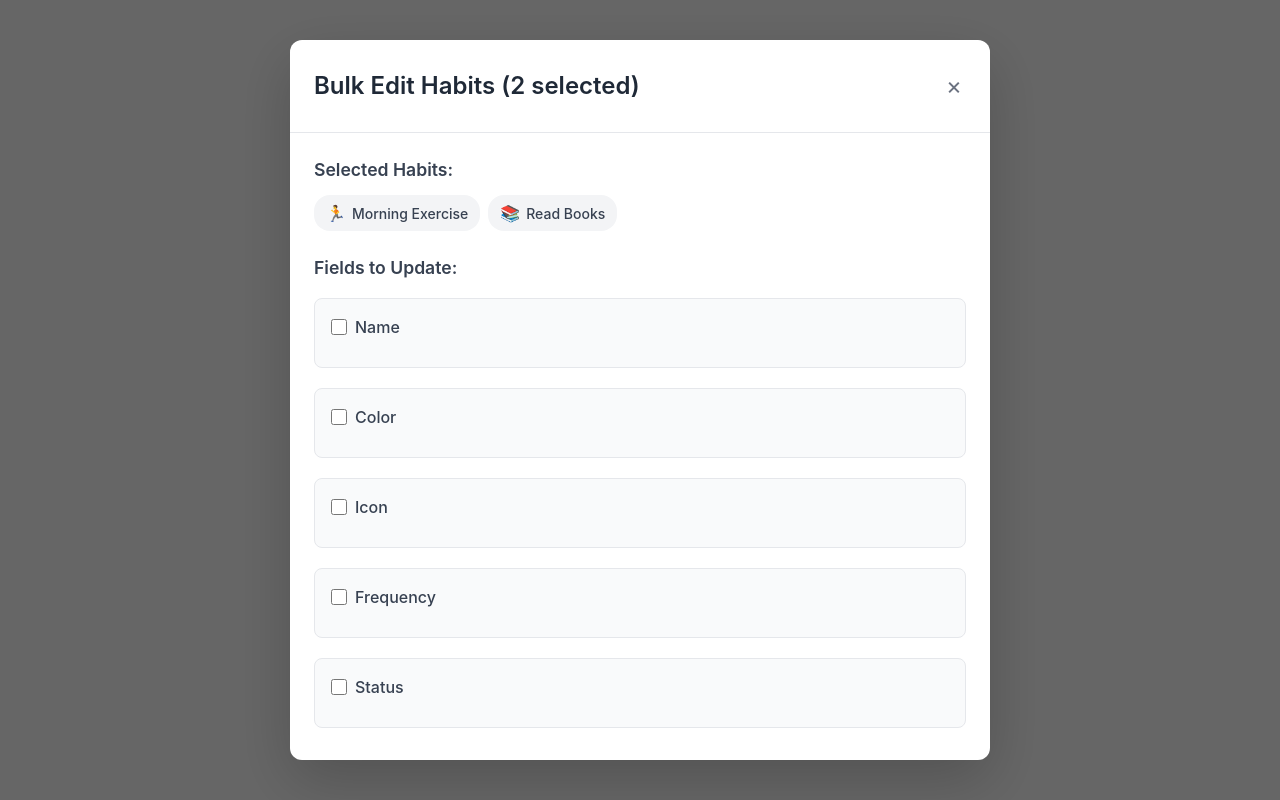
Scenario: BulkEditModal › shows loading state during bulk edit
Select field and submit
Click the checkbox labelled "Name" at (339, 327), box [331,319,347,335]
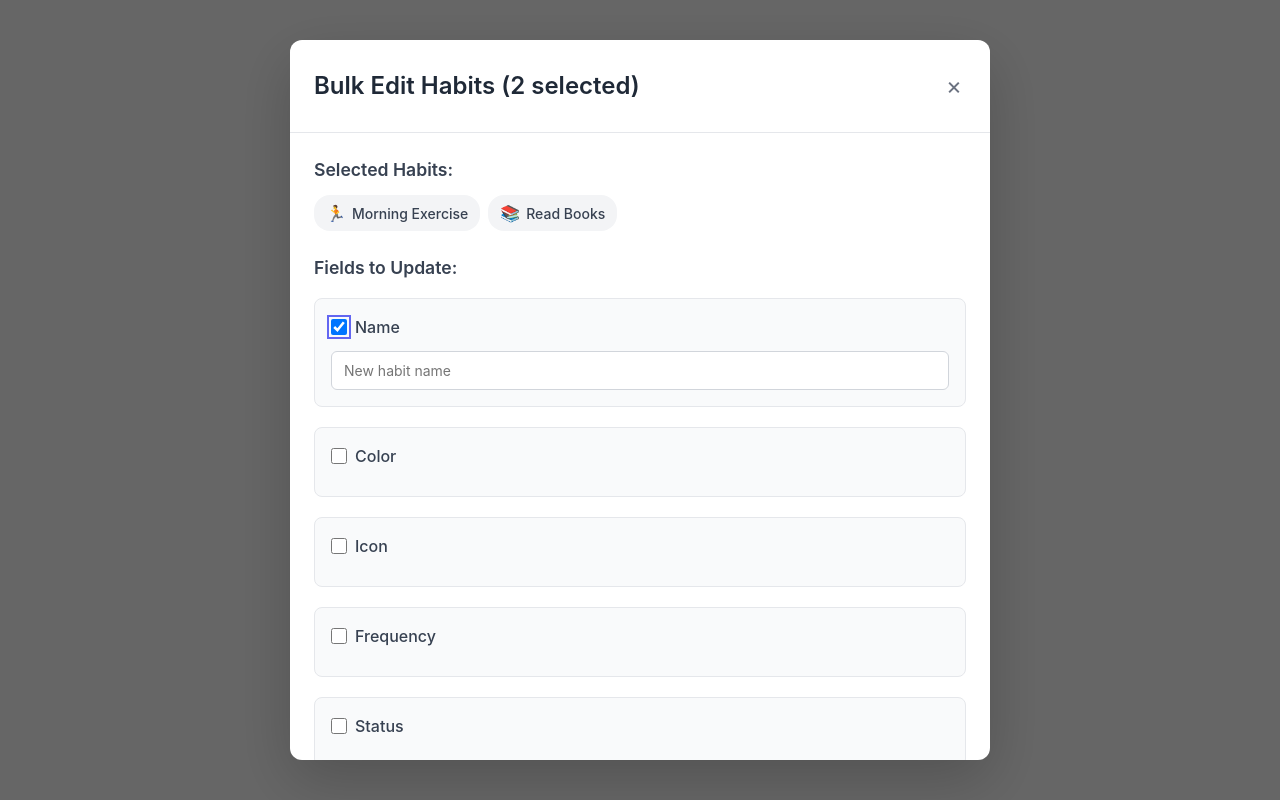
Type "Loading Test" into the field with placeholder "New habit name" at (640, 370), box [331,351,949,390]
(page scrolled)
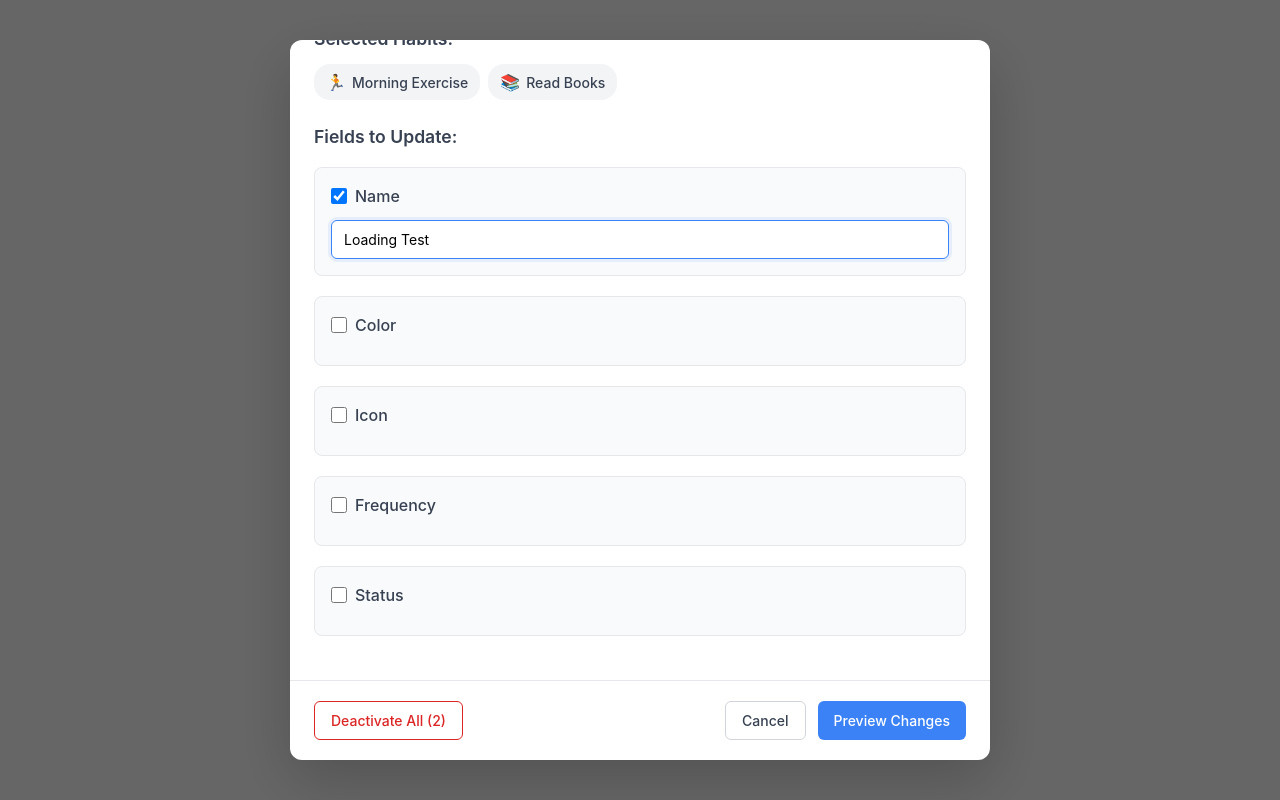
Click the button "Preview Changes" at (892, 720), box [818,701,966,740]
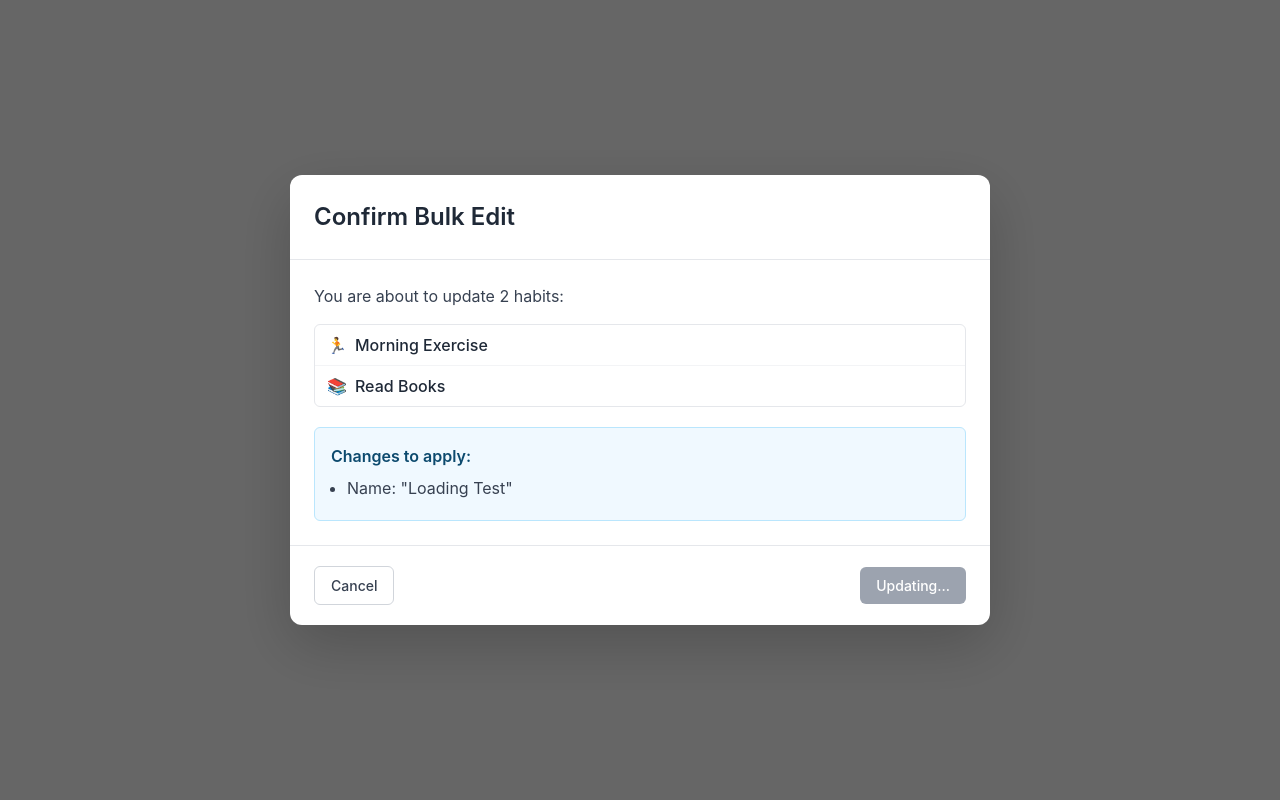
Expected: the button "Updating..." is shown, [860,567,966,604]
